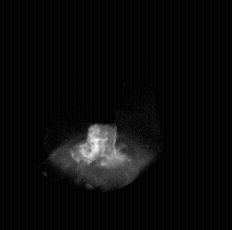arame: (89, 0, 118, 127)
poca: (52, 0, 154, 230)
